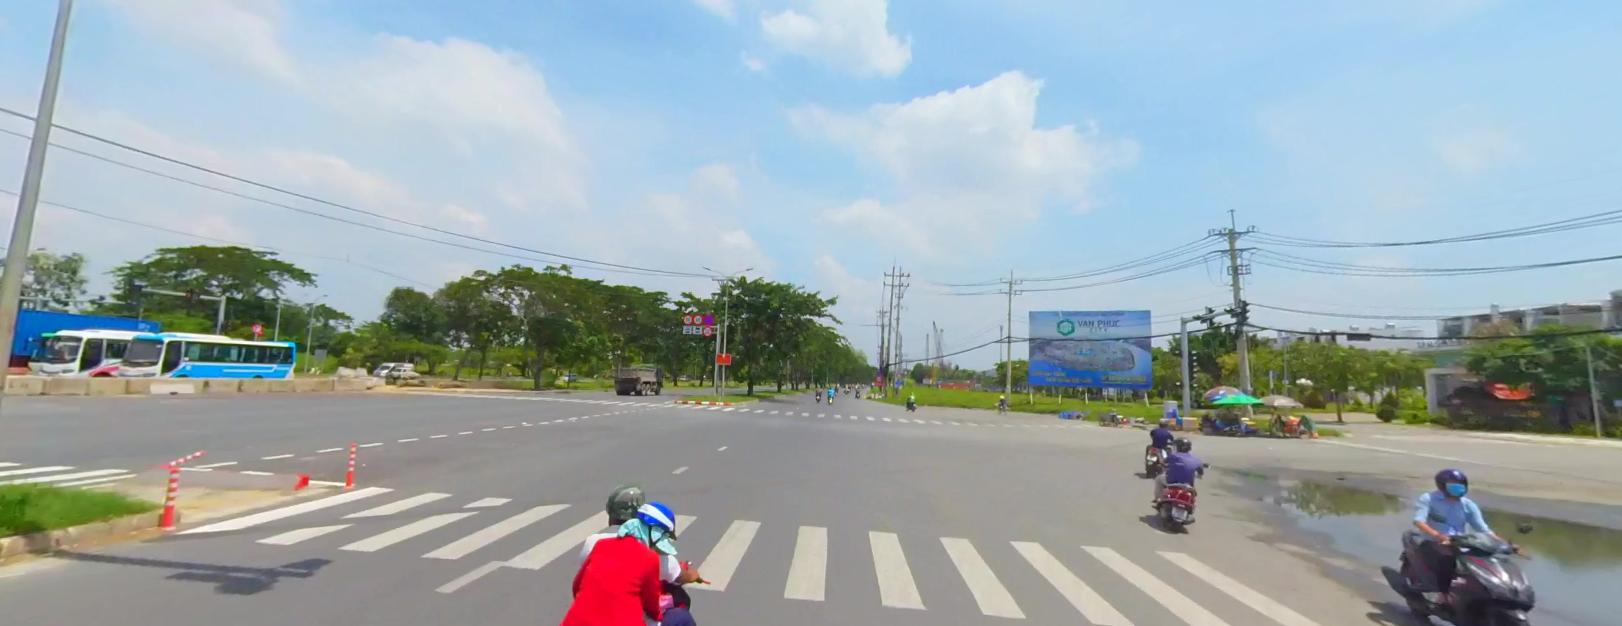Cam con lai: (702, 324, 711, 335)
Cam dung va do: (703, 312, 713, 322), (877, 368, 883, 373)
Cam re: (251, 321, 261, 330)
Gioi han toc do: (682, 312, 691, 322), (693, 312, 702, 322)
